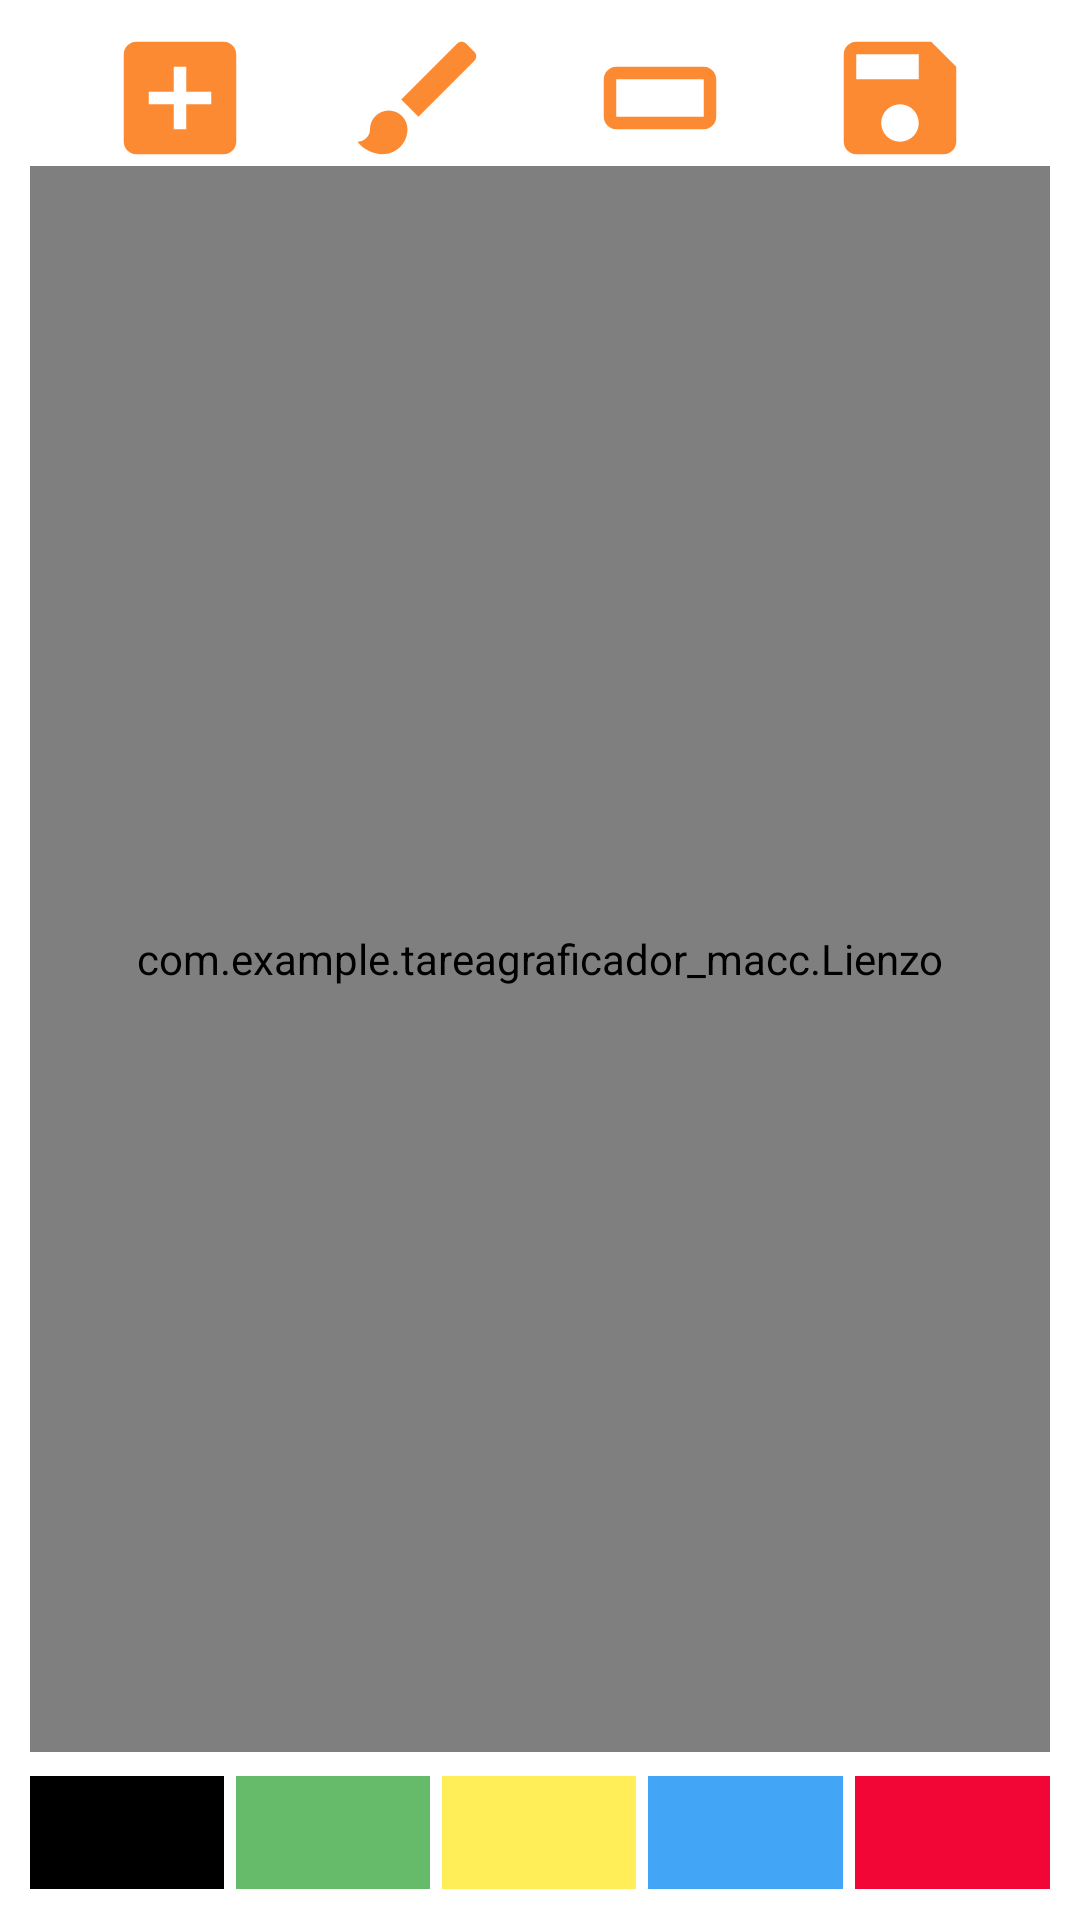

Icons on this 1080px×1920px Android screen, each with the point to tap as point (x, y):
add: point (180, 98)
brush: point (417, 98)
save: point (900, 98)
